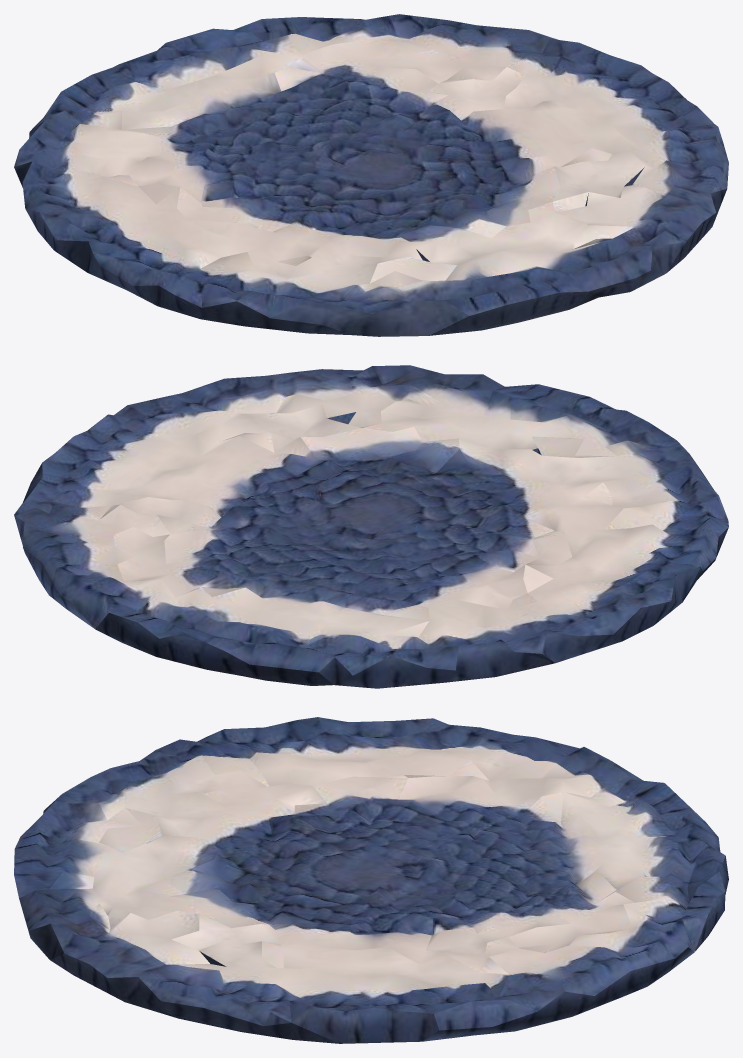
Rendered from rug_round.glb.
3 renders of one model, top to bottom at view 1: azimuth 30°, elevation 25°; view 2: azimuth 150°, elevation 25°; view 3: azimuth 270°, elevation 25°, orthographic.
Parts seen in each view (by area): view 1: rug_round_s44; view 2: rug_round_s44; view 3: rug_round_s44.
Part boxes in pixels (x1,y1,x2,y2): rug_round_s44: (14, 14, 728, 336); rug_round_s44: (14, 365, 728, 688); rug_round_s44: (14, 717, 728, 1043).
Bounding box in the file's own units: 1 × 0.067 × 0.9932.
1 material, 1 textured.
